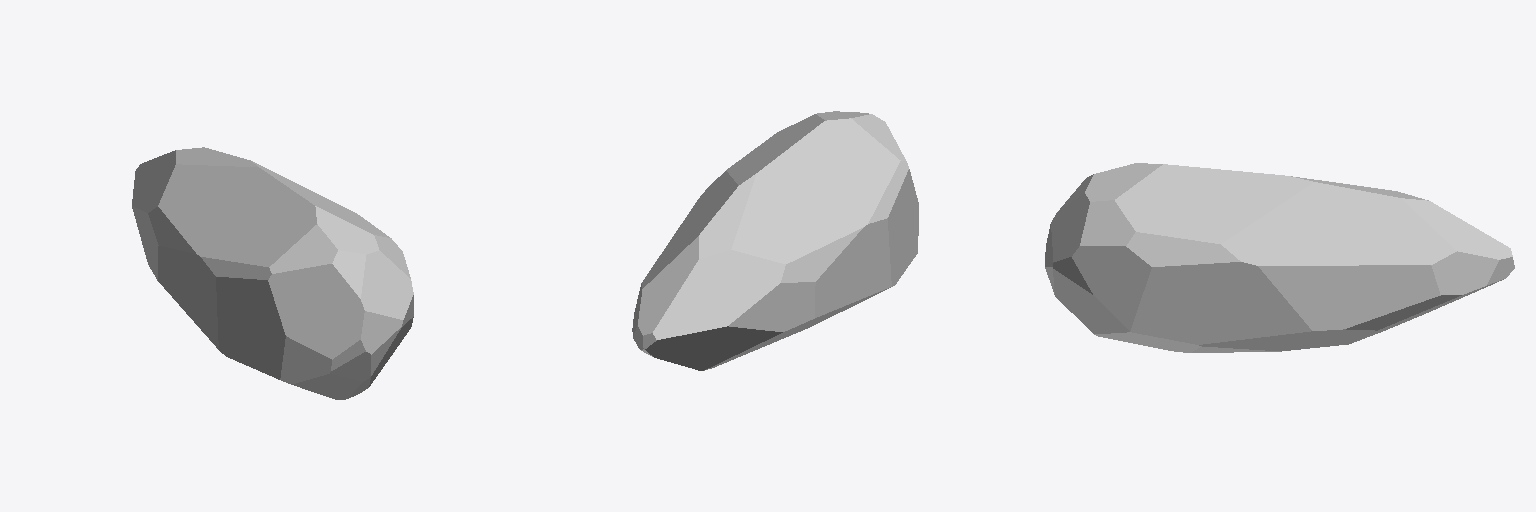
File: block_crystal.obj
The picture shows the model from 3 angles: view 1: azimuth 30°, elevation 25°; view 2: azimuth 150°, elevation 25°; view 3: azimuth 270°, elevation 25°; orthographic projection.
Visible parts, largest first — view 1: Cylinder.002; view 2: Cylinder.002; view 3: Cylinder.002.
Boxes of the visible parts, box(x1,y1,x2,y2) form: Cylinder.002: box(132, 147, 413, 399); Cylinder.002: box(632, 111, 918, 370); Cylinder.002: box(1045, 163, 1514, 352).
Size of the model in its own units: 0.3952 by 0.4338 by 0.9999.